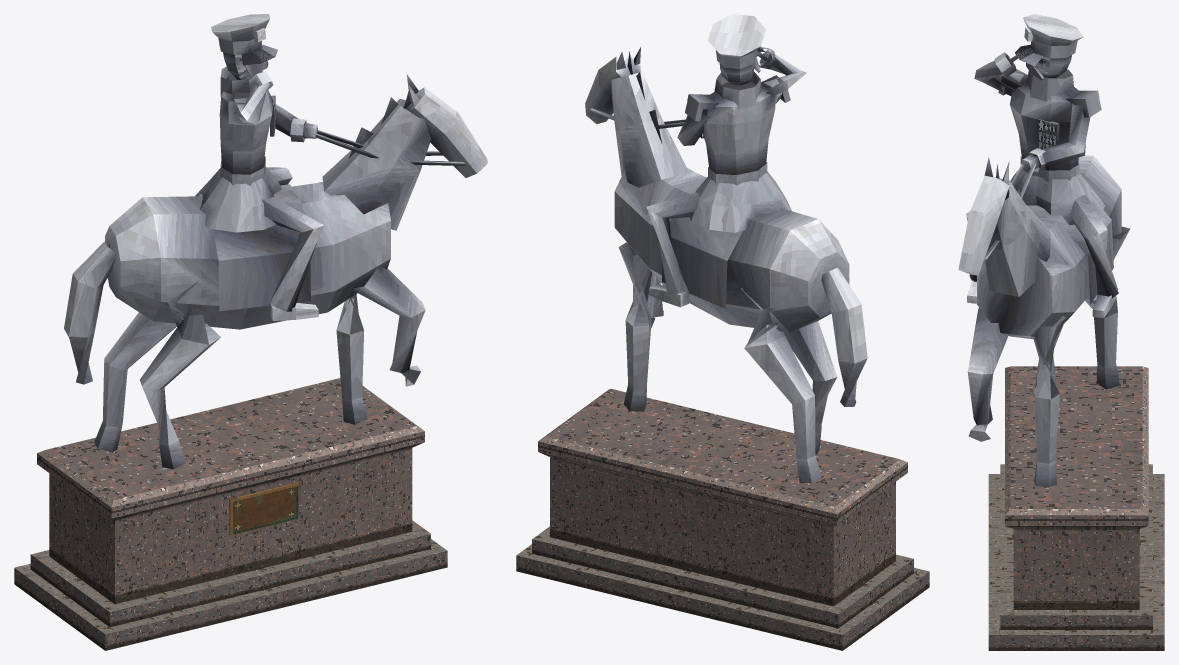
File: env_statue_silver.glb
3 views of the same model, side by side, from view 1: azimuth 30°, elevation 25°; view 2: azimuth 150°, elevation 25°; view 3: azimuth 270°, elevation 25° (orthographic). The views are drawn at different scales.
Parts seen in each view (by area): view 1: env_statue_silver; view 2: env_statue_silver; view 3: env_statue_silver.
Boxes of the visible parts, x1,y1,x2,y2 form: env_statue_silver: [14, 14, 487, 650]; env_statue_silver: [516, 14, 929, 650]; env_statue_silver: [958, 14, 1164, 650].
Size of the model in its own units: 0.0141 by 0.0207 by 0.00704.
Materials: 2 (2 with a texture image).
